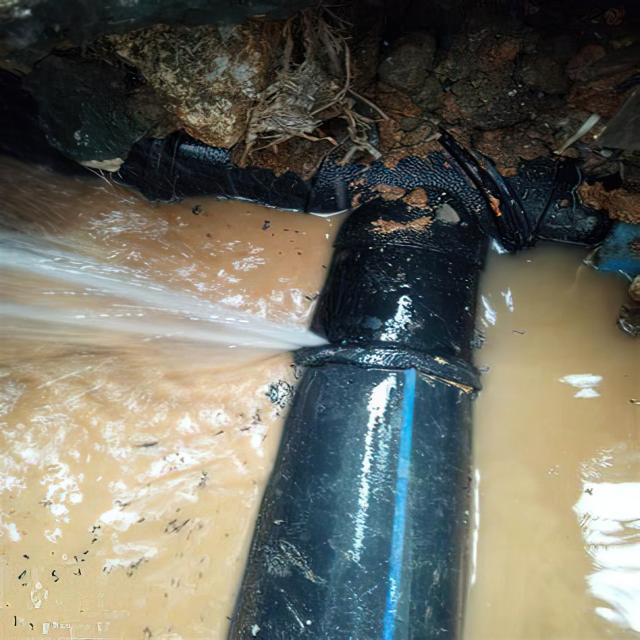leak: (2, 230, 323, 350)
